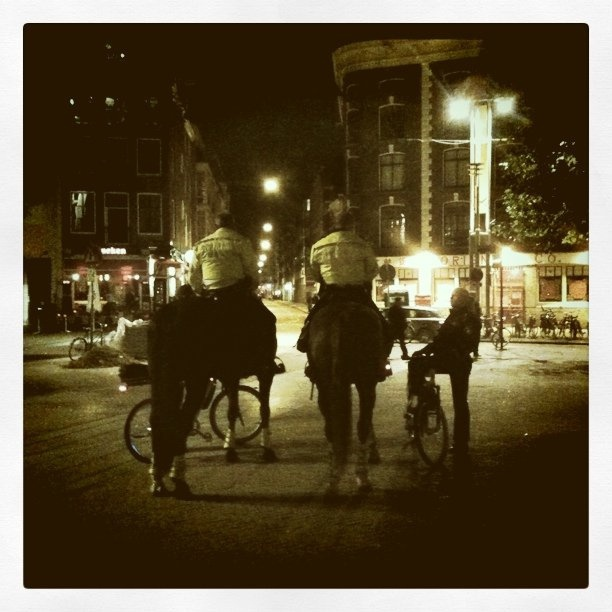non-vehicle: (122, 376, 261, 465), (401, 355, 449, 465), (66, 320, 108, 360), (491, 314, 511, 348), (557, 316, 586, 339), (506, 309, 526, 337), (395, 320, 414, 345), (525, 313, 539, 340)
